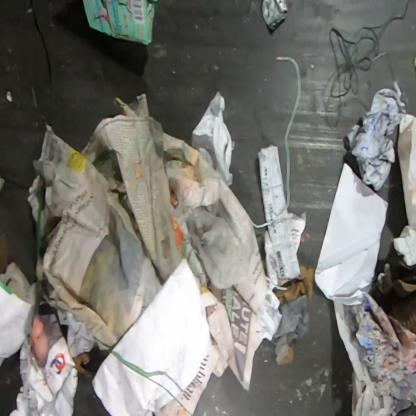cardboard: (83, 1, 156, 46), (370, 275, 415, 338)
